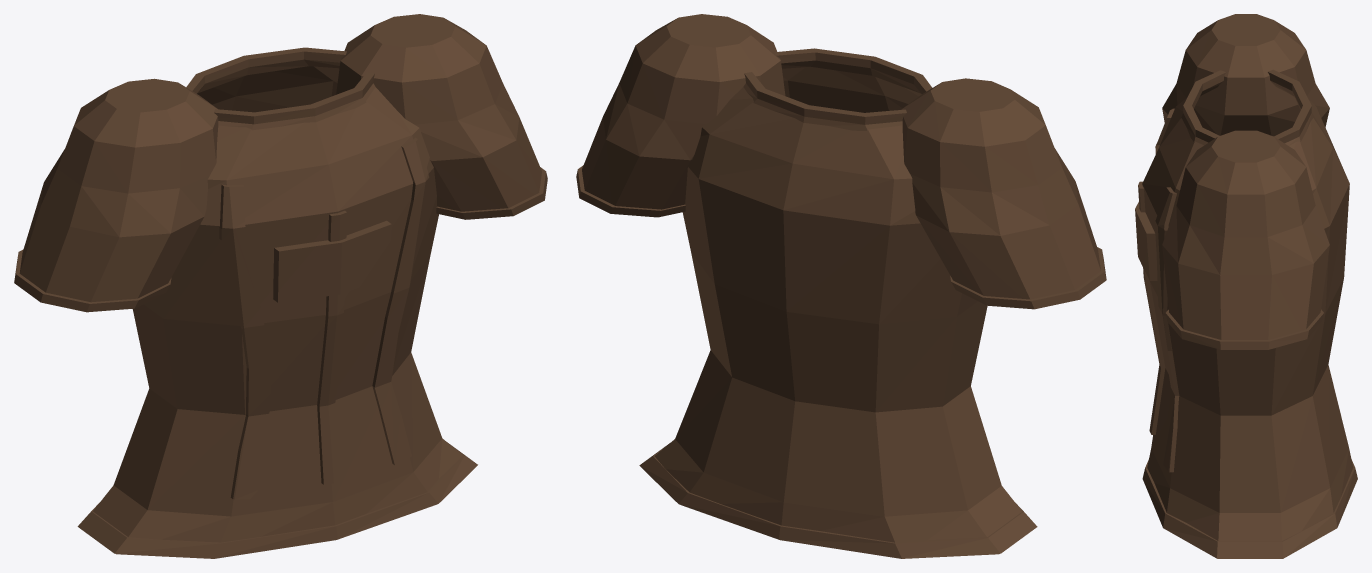
File: leather_chest-female-thickHide.glb
3 views of the same model, side by side, from view 1: azimuth 30°, elevation 25°; view 2: azimuth 150°, elevation 25°; view 3: azimuth 270°, elevation 25° (orthographic). The views are drawn at different scales.
Visible parts, largest first — view 1: leather tunic torso, leather upper sleeve -1, leather upper sleeve 1, Sewn tunic side facing -1, Bound tunic hem, Heavy hide binding leather tunic torso, Fitted tunic neckline, Sewn tunic side facing 1, Reinforced tunic closure, Sleeve cuff binding -1, Sleeve cuff binding 1; view 2: leather tunic torso, leather upper sleeve -1, leather upper sleeve 1, Bound tunic hem, Fitted tunic neckline, Sleeve cuff binding -1, Sleeve cuff binding 1; view 3: leather tunic torso, leather upper sleeve 1, leather upper sleeve -1, Bound tunic hem, Sewn tunic side facing 1, Fitted tunic neckline, Sleeve cuff binding 1, Reinforced tunic closure, Heavy hide binding leather tunic torso.
Part boxes in pixels (x1,y1,x2,y2): leather tunic torso: (93, 66, 462, 558); leather upper sleeve -1: (19, 78, 218, 302); leather upper sleeve 1: (336, 14, 541, 211); Sewn tunic side facing -1: (219, 184, 271, 499); Bound tunic hem: (77, 442, 477, 558); Heavy hide binding leather tunic torso: (273, 220, 391, 302); Fitted tunic neckline: (186, 47, 375, 130); Sewn tunic side facing 1: (372, 137, 429, 465); Reinforced tunic closure: (317, 210, 347, 484); Sleeve cuff binding -1: (14, 249, 171, 312); Sleeve cuff binding 1: (436, 167, 547, 219); leather tunic torso: (654, 67, 1021, 558); leather upper sleeve -1: (901, 78, 1100, 299); leather upper sleeve 1: (582, 14, 785, 209); Bound tunic hem: (639, 443, 1037, 558); Fitted tunic neckline: (743, 48, 932, 130); Sleeve cuff binding -1: (950, 247, 1106, 309); Sleeve cuff binding 1: (576, 165, 685, 217); leather tunic torso: (1142, 94, 1353, 558); leather upper sleeve 1: (1162, 130, 1329, 339); leather upper sleeve -1: (1162, 14, 1329, 136); Bound tunic hem: (1142, 459, 1357, 558); Sewn tunic side facing 1: (1155, 187, 1179, 472); Fitted tunic neckline: (1181, 69, 1313, 145); Sleeve cuff binding 1: (1165, 309, 1323, 349); Reinforced tunic closure: (1138, 181, 1165, 434); Heavy hide binding leather tunic torso: (1135, 202, 1157, 280).
Bounding box in the file's own units: 3.19 × 2.62 × 1.35.
